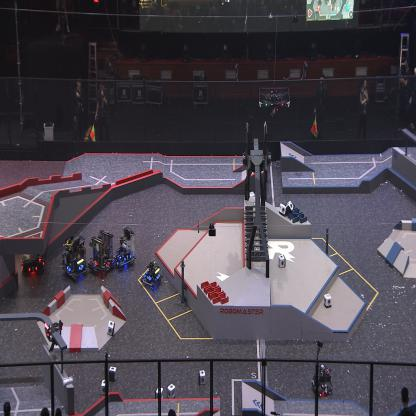car: (87, 227, 114, 278), (61, 234, 87, 282), (20, 230, 47, 275), (112, 226, 136, 270), (310, 362, 332, 398), (141, 259, 164, 290)
